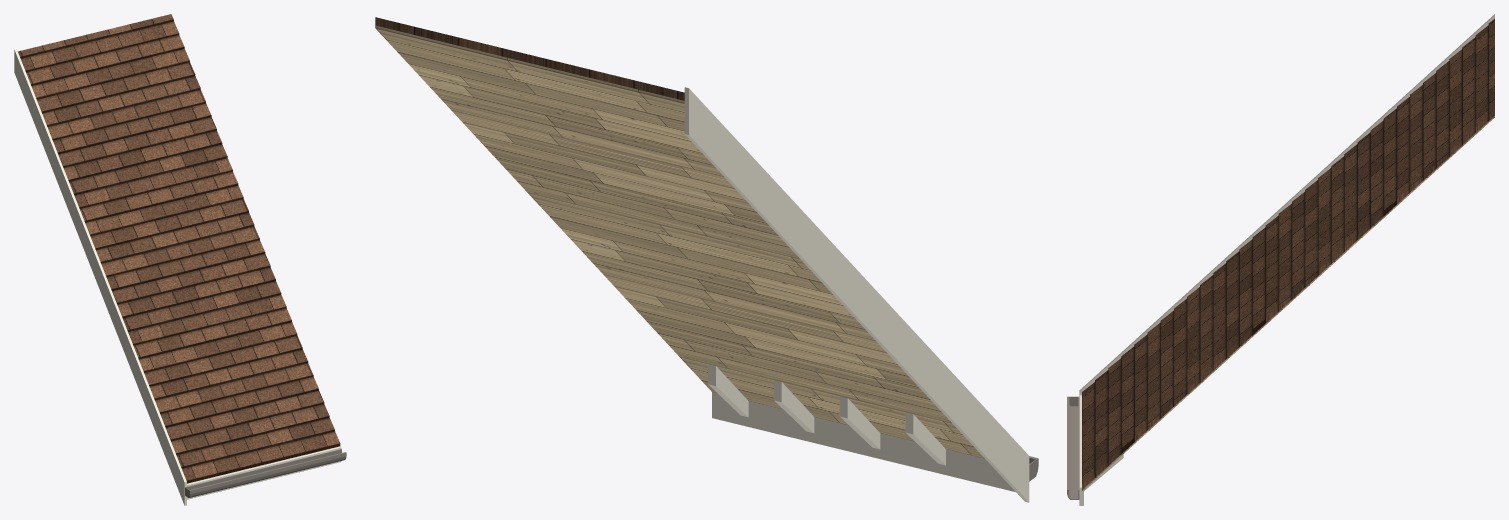
File: roof_eave_a.glb
The picture shows the model from 3 angles, left to right: view 1: azimuth 30°, elevation 25°; view 2: azimuth 150°, elevation 25°; view 3: azimuth 270°, elevation 25°; orthographic projection. The views are drawn at different scales.
Visible parts, largest first — view 1: roof_eave_a_shingles, roof_eave_a_trim, roof_eave_a_gutter; view 2: roof_eave_a_ceil, roof_eave_a_trim, roof_eave_a_shingles; view 3: roof_eave_a_shingles, roof_eave_a_trim, roof_eave_a_gutter, roof_eave_a_ceil.
Part boxes in pixels (x1,y1,x2,y2): roof_eave_a_shingles: [18, 14, 340, 483]; roof_eave_a_trim: [14, 49, 341, 505]; roof_eave_a_gutter: [185, 449, 346, 497]; roof_eave_a_ceil: [375, 25, 984, 458]; roof_eave_a_trim: [684, 87, 1029, 502]; roof_eave_a_shingles: [375, 17, 684, 100]; roof_eave_a_shingles: [1082, 19, 1494, 489]; roof_eave_a_trim: [1079, 14, 1494, 505]; roof_eave_a_gutter: [1067, 396, 1079, 499]; roof_eave_a_ceil: [1082, 116, 1494, 491].
Size of the model in its own units: 2.38 by 4.82 by 4.61.
Materials: 4 (2 with a texture image).
